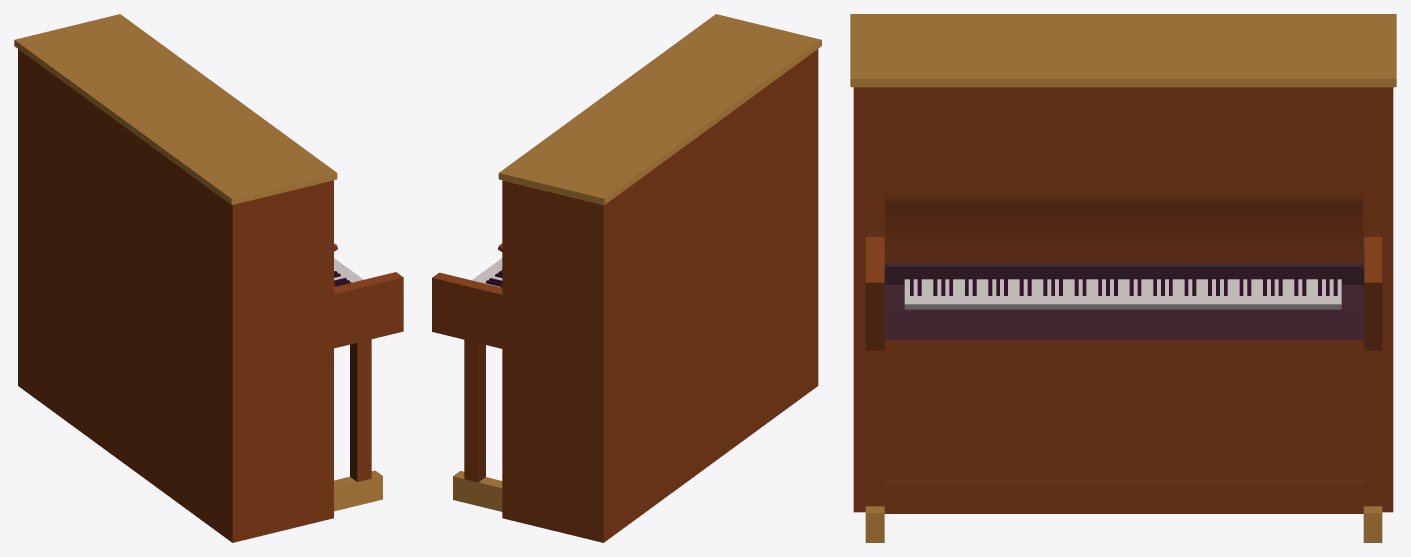
File: SqurePiano.fbx
The picture shows the model from 3 angles, left to right: view 1: azimuth 30°, elevation 25°; view 2: azimuth 150°, elevation 25°; view 3: azimuth 270°, elevation 25°; orthographic projection. The views are drawn at different scales.
Visible parts, largest first — view 1: SqurePiano; view 2: SqurePiano; view 3: SqurePiano.
Part boxes in pixels (x1,y1,x2,y2): SqurePiano: (14,14,403,542); SqurePiano: (432,14,821,542); SqurePiano: (850,14,1396,542).
Size of the model in its own units: 507 by 941 by 1071.
